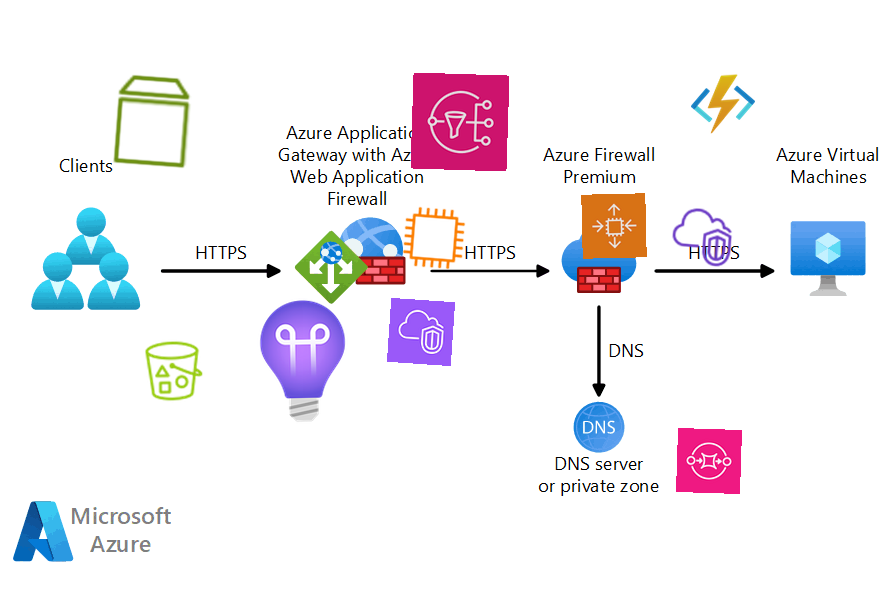aws_amazon_ec2_auto_scaling: (581, 193, 647, 259)
aws_amazon_simple_notification_service: (410, 72, 510, 172)
aws_amazon_simple_queue_service: (675, 427, 743, 495)
aws_amazon_virtual_private_cloud: (386, 297, 456, 367)
aws_ec2_instance: (399, 203, 469, 273)
aws_elastic_block_store_volume: (101, 69, 205, 173)
aws_simple_storage_service_bucket_with_objects: (141, 338, 207, 404)
aws_vpc_virtual_private_cloud_vpc: (667, 202, 737, 272)
azure_application_insights: (237, 295, 369, 427)
azure_function_apps: (688, 69, 758, 139)
